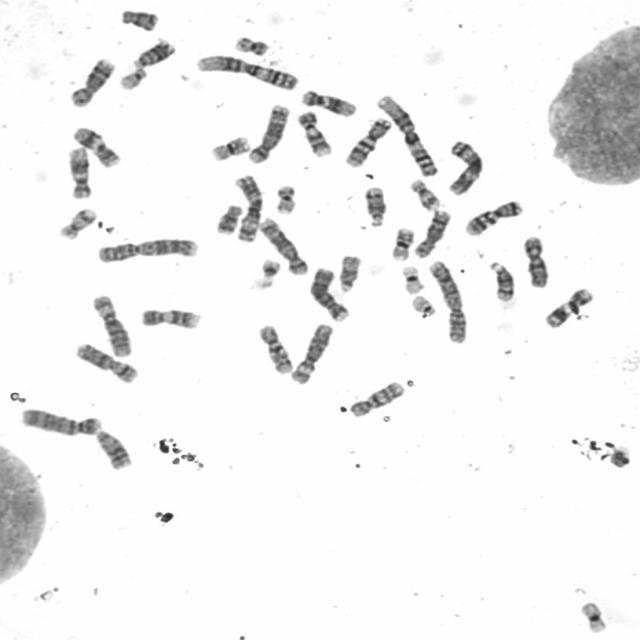A1: (374, 92, 440, 178), (192, 52, 301, 92)
A2: (426, 258, 470, 345), (94, 234, 200, 264)
A3: (444, 137, 485, 197), (231, 172, 265, 242)
B4: (17, 404, 104, 436), (305, 265, 352, 324)
B5: (257, 215, 309, 276), (246, 101, 292, 164)
C10: (346, 378, 407, 418), (256, 321, 295, 375)
C11: (540, 285, 597, 330), (69, 124, 122, 168)
C12: (298, 87, 358, 118), (65, 145, 93, 200)
C6: (87, 291, 134, 358), (287, 321, 335, 386)
C7: (342, 115, 392, 169), (461, 198, 525, 238)
C8: (66, 55, 117, 108), (412, 206, 453, 258)
C9: (295, 109, 334, 159), (138, 305, 202, 330)
D13: (91, 426, 134, 472), (130, 38, 177, 69)
D14: (484, 257, 518, 303), (361, 184, 388, 228)
D15: (335, 252, 363, 294)
E16: (207, 133, 252, 163), (387, 224, 416, 262)
E17: (57, 204, 98, 242), (408, 176, 442, 213)
E18: (212, 201, 244, 236), (118, 7, 159, 32)
F19: (576, 598, 610, 635), (398, 263, 426, 295)
F20: (232, 33, 271, 57), (272, 182, 298, 215)
G21: (252, 256, 284, 291)
G22: (116, 65, 149, 91), (409, 292, 438, 317)
X: (72, 338, 142, 386), (519, 234, 551, 288)
